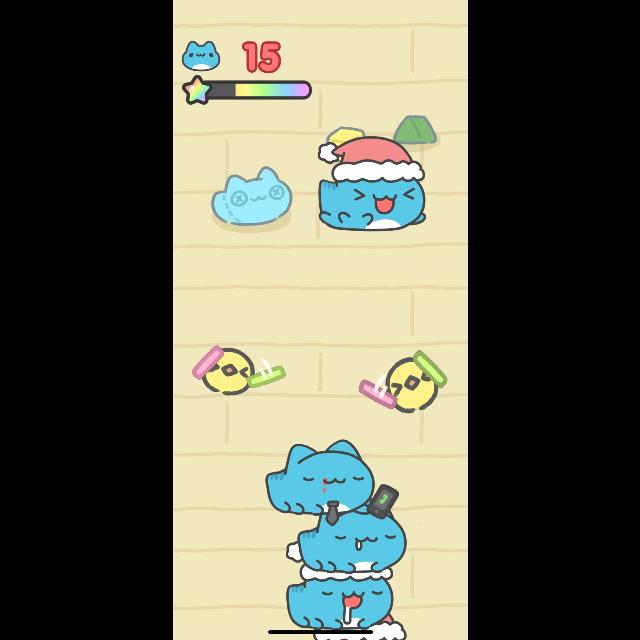capoo: (314, 136, 428, 232), (264, 441, 402, 519), (284, 570, 398, 630), (296, 519, 408, 571)
